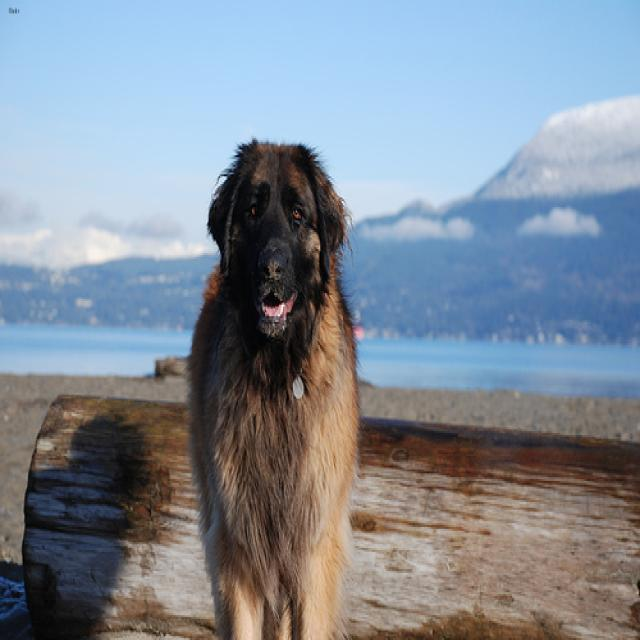dog-leonberger: (180, 126, 369, 636)
